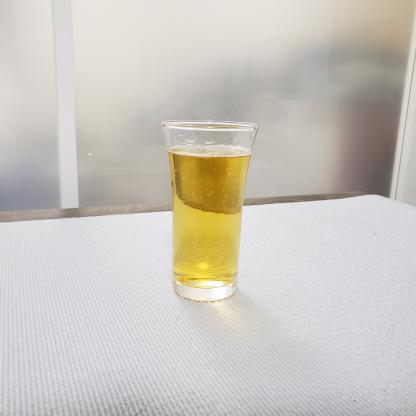glass: (153, 107, 268, 312)
